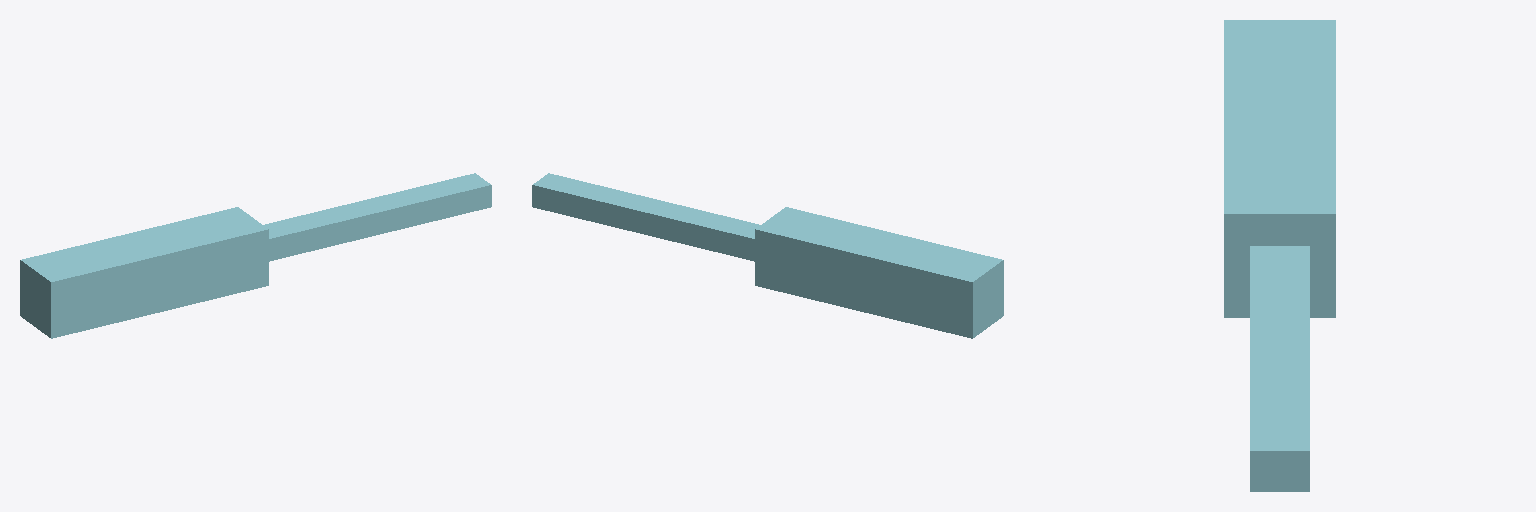
URDF robot description (cuboid_screwdriver_v2001):
<?xml version="1.0"?>
<robot name="cuboid_screwdriver_v2001">

  <link name="cuboid_screwdriver_v2001">
    <!-- Handle -->
    <visual>
      <origin xyz="0 0 0" rpy="0 0 0"/>
      <geometry>
        <box size="0.1115556336062453 0.027299264749367412 0.02768902462236609"/>
      </geometry>
      <material name="material">
        <color rgba="0.639 0.847 0.882 1.0"/>
      </material>
    </visual>
    <collision>
      <origin xyz="0 0 0" rpy="0 0 0"/>
      <geometry>
        <box size="0.1115556336062453 0.027299264749367412 0.02768902462236609"/>
      </geometry>
    </collision>

    <!-- Head -->
    <visual>
      <origin xyz="0.11475312846395638 0 0" rpy="0 0 0"/>
      <geometry>
        <box size="0.11795062332166747 0.014372810204187323 0.010982173328572866"/>
      </geometry>
      <material name="material">
        <color rgba="0.639 0.847 0.882 1.0"/>
      </material>
    </visual>
    <collision>
      <origin xyz="0.11475312846395638 0 0" rpy="0 0 0"/>
      <geometry>
        <box size="0.11795062332166747 0.014372810204187323 0.010982173328572866"/>
      </geometry>
    </collision>

    <inertial>
      <density value="400.0"/>
    </inertial>
  </link>

</robot>

--- Render facts (derived) ---
Views: 3 orthographic renders of the robot side by side, from view 1: azimuth 30°, elevation 25°; view 2: azimuth 150°, elevation 25°; view 3: azimuth 270°, elevation 25°.
Robot: cuboid_screwdriver_v2001 — 1 links, 0 joints (none); root link cuboid_screwdriver_v2001; default pose: all joints at 0.
Links seen in each view (by area): view 1: cuboid_screwdriver_v2001; view 2: cuboid_screwdriver_v2001; view 3: cuboid_screwdriver_v2001.
Boxes of the visible links, box(x1,y1,x2,y2) form: cuboid_screwdriver_v2001: box(20, 173, 491, 338); cuboid_screwdriver_v2001: box(532, 173, 1003, 338); cuboid_screwdriver_v2001: box(1224, 20, 1335, 491).
Size in the robot's own frame: 0.2295 by 0.0273 by 0.0277 metres.
Geometry: primitives only (box / cylinder / sphere), no mesh files.
